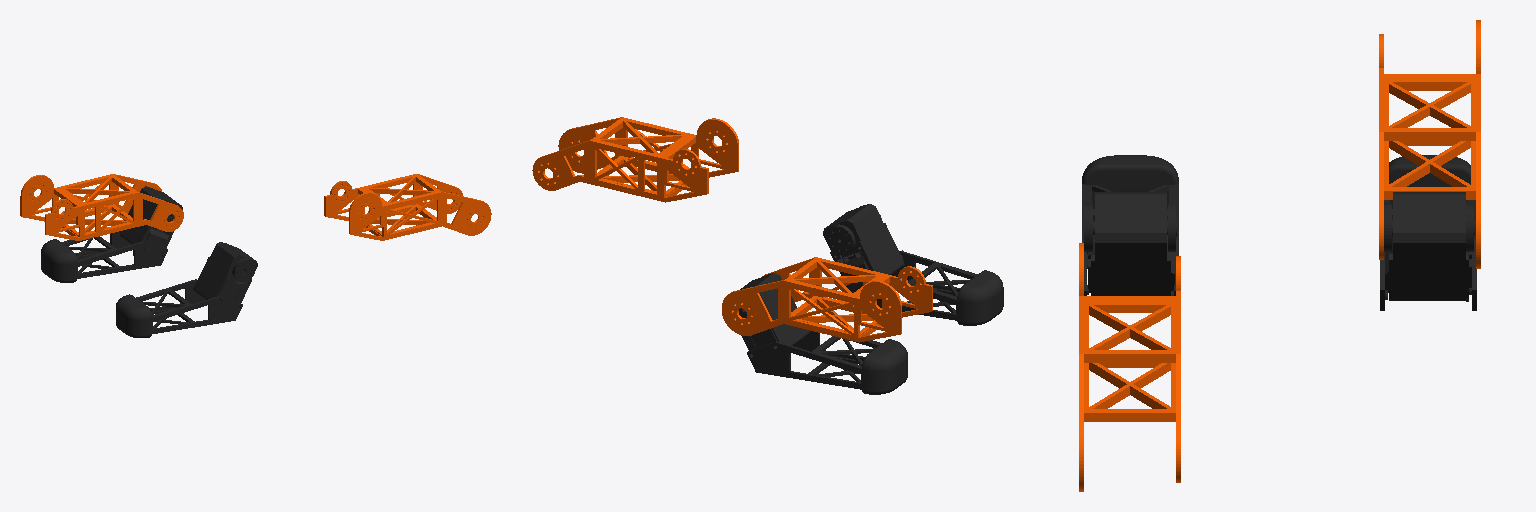
robot.urdf — shibot_inu:
<?xml version="1.0"?>
<robot name="shibot_inu">
    <material name="Gray">
        <color rgba="0.2 0.2 0.2 1.0"/>
    </material>
    <material name="Orange">
        <color rgba="1.0 0.423529411765 0.0392156862745 1.0"/>
    </material>
    <material name="Blue">
        <color rgba="0.5 0.7 1.0 1.0"/>
    </material>

    <link name="robot_base">
        <inertial>
            <origin xyz="0 0 0" rpy="0 0 0"/>
            <mass value="1.0"/>
            <inertia ixx="0.05" ixy="0" ixz="0" iyy="0.05" iyz="0" izz="0.05"/>
        </inertial>
        <visual>
            <geometry>
                <mesh filename="meshes/robot_base.stl" scale="0.001 0.001 0.001"/>
            </geometry>
            <material name="Gray"/>
        </visual>
        <collision>
            <geometry>
                <mesh filename="meshes/robot_base.stl" scale="0.001 0.001 0.001"/>
            </geometry>
        </collision>
    </link>

    <link name="l_hip_leg1">
        <inertial>
            <origin xyz="0 0 0" rpy="0 0 0"/>
            <mass value="1"/>
            <inertia ixx="0.005" ixy="0" ixz="0" iyy="0.005" iyz="0" izz="0.005"/>
        </inertial>
        <visual>
            <geometry>
                <mesh filename="meshes/l_hip_leg1.stl" scale="0.001 0.001 0.001"/>
            </geometry>
            <origin rpy="0 0 0" xyz="0 0 0"/>
            <material name="Orange"/>
        </visual>
        <collision>
            <geometry>
                <mesh filename="meshes/l_hip_leg1.stl" scale="0.001 0.001 0.001"/>
            </geometry>
        </collision>
    </link>
    <link name="r_hip_leg1">
        <inertial>
            <origin xyz="0 0 0" rpy="0 0 0"/>
            <mass value="1"/>
            <inertia ixx="0.005" ixy="0" ixz="0" iyy="0.005" iyz="0" izz="0.005"/>
        </inertial>
        <visual>
            <geometry>
                <mesh filename="meshes/r_hip_leg1.stl" scale="0.001 0.001 0.001"/>
            </geometry>
            <origin rpy="0 0 0" xyz="0 0 0"/>
            <material name="Orange"/>
        </visual>
        <collision>
            <geometry>
                <mesh filename="meshes/r_hip_leg1.stl" scale="0.001 0.001 0.001"/>
            </geometry>
        </collision>
    </link>
    <link name="l_hip_leg2">
        <inertial>
            <origin xyz="0 0 0" rpy="0 0 0"/>
            <mass value="1"/>
            <inertia ixx="0.005" ixy="0" ixz="0" iyy="0.005" iyz="0" izz="0.005"/>
        </inertial>
        <visual>
            <geometry>
                <mesh filename="meshes/l_hip_leg2.stl" scale="0.001 0.001 0.001"/>
            </geometry>
            <origin rpy="0 0 0" xyz="0 0 0"/>
            <material name="Orange"/>
        </visual>
        <collision>
            <geometry>
                <mesh filename="meshes/l_hip_leg2.stl" scale="0.001 0.001 0.001"/>
            </geometry>
        </collision>
    </link>
    <link name="r_hip_leg2">
        <inertial>
            <origin xyz="0 0 0" rpy="0 0 0"/>
            <mass value="1"/>
            <inertia ixx="0.005" ixy="0" ixz="0" iyy="0.005" iyz="0" izz="0.005"/>
        </inertial>
        <visual>
            <geometry>
                <mesh filename="meshes/r_hip_leg2.stl" scale="0.001 0.001 0.001"/>
            </geometry>
            <origin rpy="0 0 0" xyz="0 0 0"/>
            <material name="Orange"/>
        </visual>
        <collision>
            <geometry>
                <mesh filename="meshes/r_hip_leg2.stl" scale="0.001 0.001 0.001"/>
            </geometry>
        </collision>
    </link>

    <link name="l_foot1">
        <inertial>
            <origin xyz="0 0 0" rpy="0 0 0"/>
            <mass value="1"/>
            <inertia ixx="0.002" ixy="0" ixz="0" iyy="0.002" iyz="0" izz="0.002"/>
        </inertial>
        <visual>
            <geometry>
                <mesh filename="meshes/l_foot1.stl" scale="0.001 0.001 0.001"/>
            </geometry>
            <origin rpy="0 0 0" xyz="0 0 0"/>
            <material name="Gray"/>
        </visual>
        <collision>
            <geometry>
                <mesh filename="meshes/l_foot1.stl" scale="0.001 0.001 0.001"/>
            </geometry>
            <surface>
                <friction>
                    <ode>
                        <mu>0.35</mu>
                        <mu2>0.35</mu2>
                    </ode>
                </friction>
            </surface>
        </collision>
    </link>
    <link name="r_foot1">
        <inertial>
            <origin xyz="0 0 0" rpy="0 0 0"/>
            <mass value="1"/>
            <inertia ixx="0.002" ixy="0" ixz="0" iyy="0.002" iyz="0" izz="0.002"/>
        </inertial>
        <visual>
            <geometry>
                <mesh filename="meshes/r_foot1.stl" scale="0.001 0.001 0.001"/>
            </geometry>
            <origin rpy="0 0 0" xyz="0 0 0"/>
            <material name="Gray"/>
        </visual>
        <collision>
            <geometry>
                <mesh filename="meshes/r_foot1.stl" scale="0.001 0.001 0.001"/>
            </geometry>
            <surface>
                <friction>
                    <ode>
                        <mu>0.35</mu>
                        <mu2>0.35</mu2>
                    </ode>
                </friction>
            </surface>
        </collision>
    </link>
    <link name="l_foot2">
        <inertial>
            <origin xyz="0 0 0" rpy="0 0 0"/>
            <mass value="1"/>
            <inertia ixx="0.002" ixy="0" ixz="0" iyy="0.002" iyz="0" izz="0.002"/>
        </inertial>
        <visual>
            <geometry>
                <mesh filename="meshes/l_foot2.stl" scale="0.001 0.001 0.001"/>
            </geometry>
            <origin rpy="0 0 0" xyz="0 0 0"/>
            <material name="Gray"/>
        </visual>
        <collision>
            <geometry>
                <mesh filename="meshes/l_foot2.stl" scale="0.001 0.001 0.001"/>
            </geometry>
            <surface>
                <friction>
                    <ode>
                        <mu>0.35</mu>
                        <mu2>0.35</mu2>
                    </ode>
                </friction>
            </surface>
        </collision>
    </link>
    <link name="r_foot2">
        <inertial>
            <origin xyz="0 0 0" rpy="0 0 0"/>
            <mass value="1"/>
            <inertia ixx="0.002" ixy="0" ixz="0" iyy="0.002" iyz="0" izz="0.002"/>
        </inertial>
        <visual>
            <geometry>
                <mesh filename="meshes/r_foot2.stl" scale="0.001 0.001 0.001"/>
            </geometry>
            <origin rpy="0 0 0" xyz="0 0 0"/>
            <material name="Gray"/>
        </visual>
        <collision>
            <geometry>
                <mesh filename="meshes/r_foot2.stl" scale="0.001 0.001 0.001"/>
            </geometry>
            <surface>
                <friction>
                    <ode>
                        <mu>0.35</mu>
                        <mu2>0.35</mu2>
                    </ode>
                </friction>
            </surface>
        </collision>
    </link>

    <joint name="l_hip_leg1_joint" type="revolute">
        <origin xyz="-0.12 -0.06 -0.006" />
        <parent link="robot_base" />
        <child link="l_hip_leg1" />
        <axis xyz="0 1 0" />
        <limit lower="-2.0" upper="2.0" effort="2" velocity="11.0"/>
    </joint>
    <joint name="r_hip_leg1_joint" type="revolute">
        <origin xyz="-0.12 0.06 -0.006" />
        <parent link="robot_base" />
        <child link="r_hip_leg1" />
        <axis xyz="0 1 0" />
        <limit lower="-2.0" upper="2.0" effort="2" velocity="11.0"/>
    </joint>
    <joint name="l_hip_leg2_joint" type="revolute">
        <origin xyz="0.09 -0.06 -0.006" />
        <parent link="robot_base" />
        <child link="l_hip_leg2" />
        <axis xyz="0 1 0" />
        <limit lower="-2.0" upper="2.0" effort="2" velocity="11.0"/>
    </joint>
    <joint name="r_hip_leg2_joint" type="revolute">
        <origin xyz="0.09 0.06 -0.006" />
        <parent link="robot_base" />
        <child link="r_hip_leg2" />
        <axis xyz="0 1 0" />
        <limit lower="-2.0" upper="2.0" effort="2" velocity="11.0"/>
    </joint>

    <joint name="l_foot_joint1" type="revolute">
        <origin xyz="0.1 0 -0.027" />
        <parent link="l_hip_leg1" />
        <child link="l_foot1" />
        <axis xyz="0 1 0" />
        <limit lower="-3.14" upper="0" effort="5" velocity="11.0"/>
    </joint>
    <joint name="r_foot_joint1" type="revolute">
        <origin xyz="0.1 0 -0.027" />
        <parent link="r_hip_leg1" />
        <child link="r_foot1" />
        <axis xyz="0 1 0" />
        <limit lower="-3.14" upper="0" effort="5" velocity="11.0"/>
    </joint>
    <joint name="l_foot_joint2" type="revolute">
        <origin xyz="0.1 0 -0.027" />
        <parent link="l_hip_leg2" />
        <child link="l_foot2" />
        <axis xyz="0 1 0" />
        <limit lower="-3.14" upper="0" effort="5" velocity="11.0"/>
    </joint>
    <joint name="r_foot_joint2" type="revolute">
        <origin xyz="0.1 0 -0.027" />
        <parent link="r_hip_leg2" />
        <child link="r_foot2" />
        <axis xyz="0 1 0" />
        <limit lower="-3.14" upper="0" effort="5" velocity="11.0"/>
    </joint>
</robot>

--- Render facts (derived) ---
The picture shows the robot from 3 angles, left to right: view 1: azimuth 30°, elevation 25°; view 2: azimuth 150°, elevation 25°; view 3: azimuth 270°, elevation 25°; orthographic projection.
Model shibot_inu with 9 links and 8 joints (8 revolute), rooted at robot_base, posed all joints at 0.
Links seen in each view (by area): view 1: l_hip_leg2, r_hip_leg1, l_foot1, r_foot1; view 2: l_hip_leg2, r_hip_leg1, l_foot1, r_foot1; view 3: l_foot1, r_foot1, l_hip_leg2, r_hip_leg1.
Boxes of the visible links, x1,y1,x2,y2 form: l_hip_leg2: (324, 174, 491, 240); r_hip_leg1: (20, 174, 183, 240); l_foot1: (116, 242, 257, 337); r_foot1: (41, 186, 182, 282); l_hip_leg2: (532, 117, 738, 202); r_hip_leg1: (722, 257, 932, 342); l_foot1: (823, 204, 1003, 325); r_foot1: (739, 273, 907, 394); l_foot1: (1082, 155, 1178, 295); r_foot1: (1380, 155, 1476, 310); l_hip_leg2: (1079, 243, 1180, 491); r_hip_leg1: (1379, 20, 1480, 268).
Bounding box of the posed robot: 0.3396 × 0.1604 × 0.0843 m (x, y, z).
4 mesh visuals loaded from 9 distinct referenced files (4 binary STL); not drawn: 5 (reference not matched to a file when rendering).